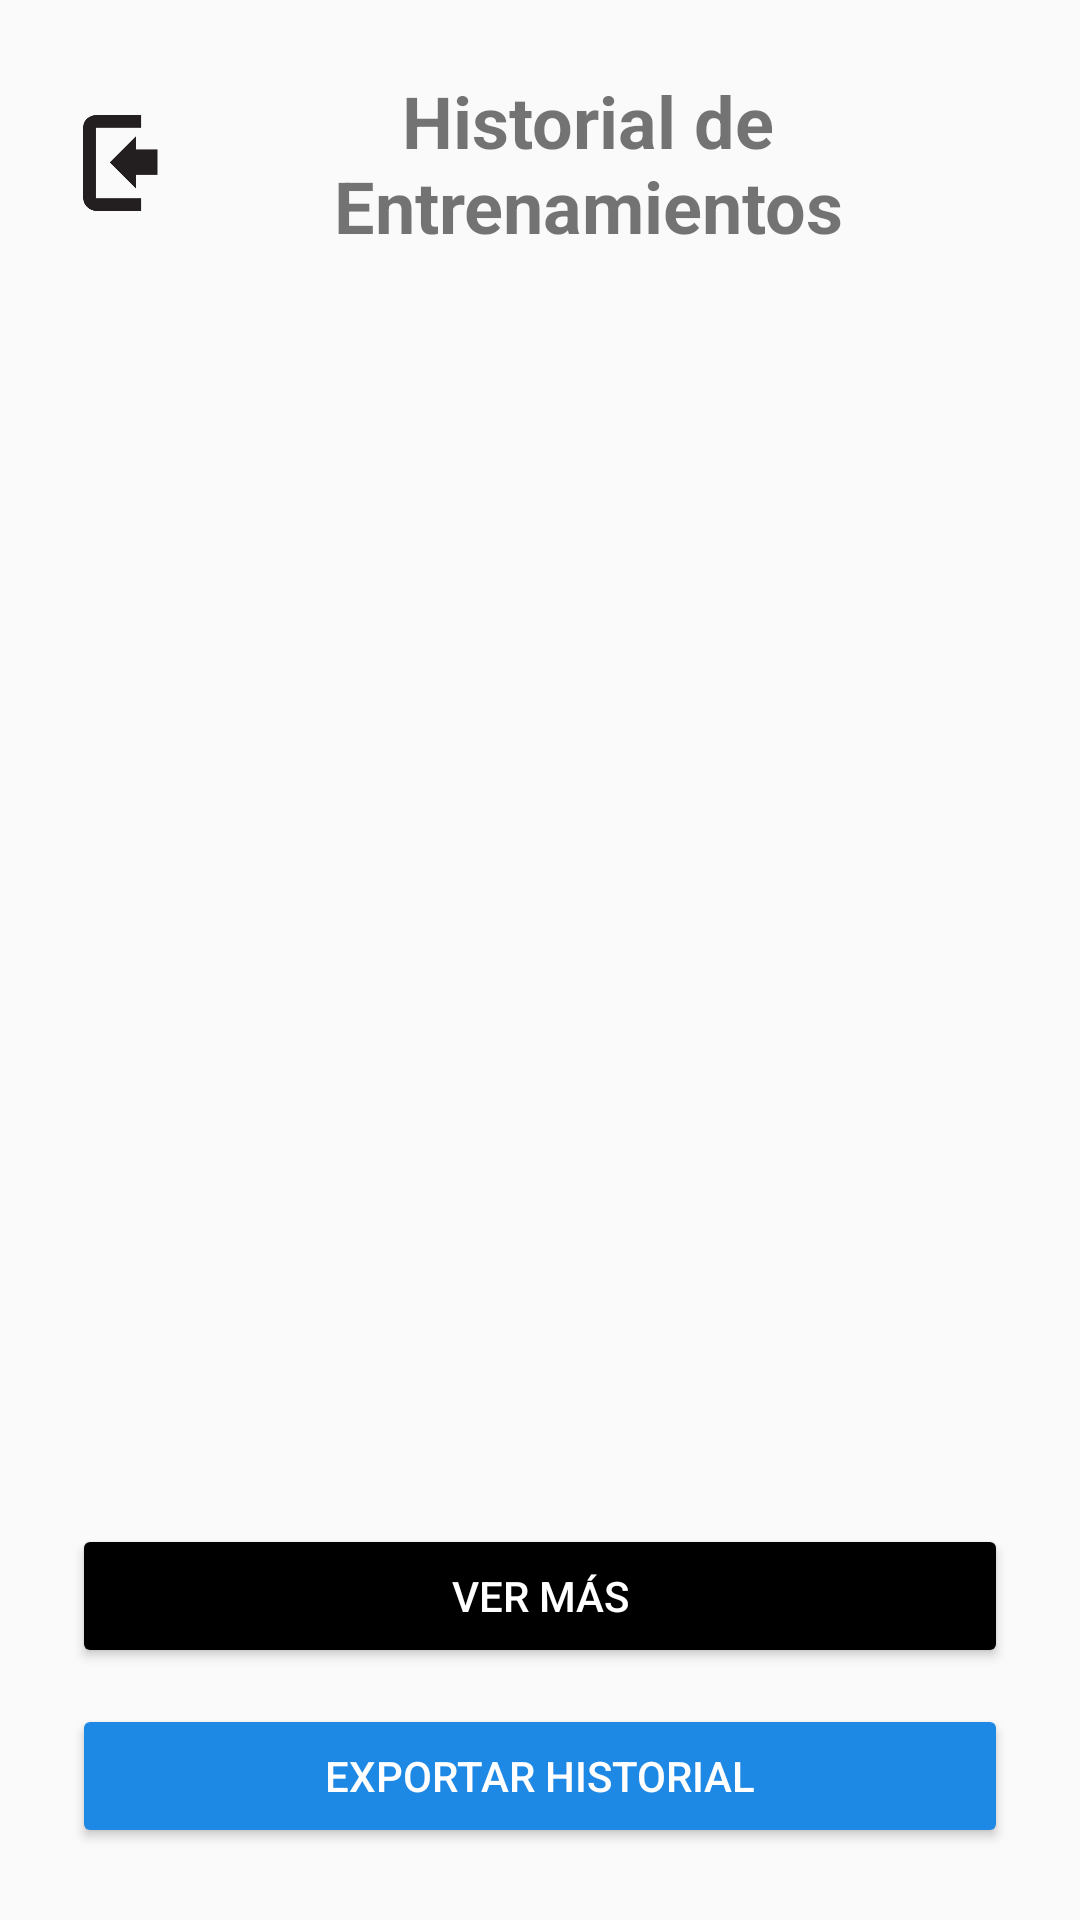

Screen size 1080×1920. Icon name, then its center in pixels as (x,y):
Salir: (120,163)
